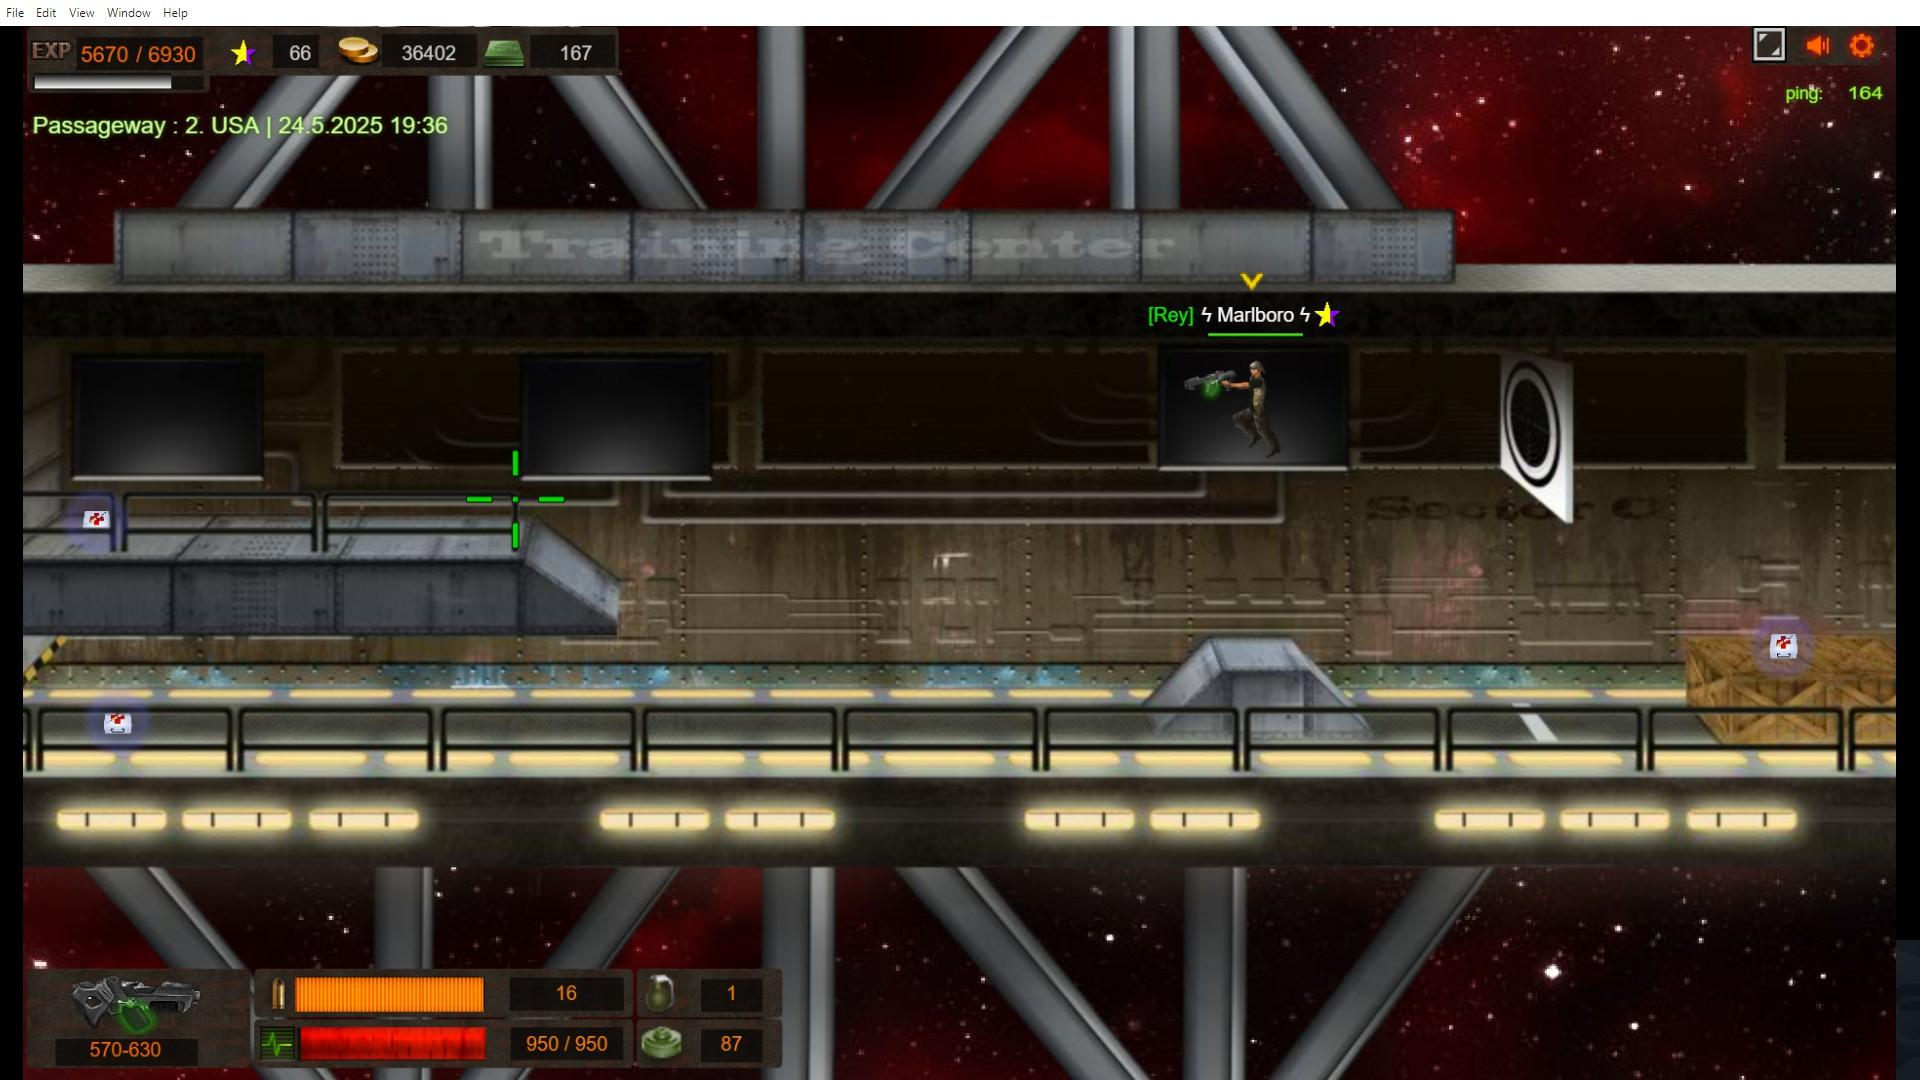enemy: (1240, 360, 1271, 444)
